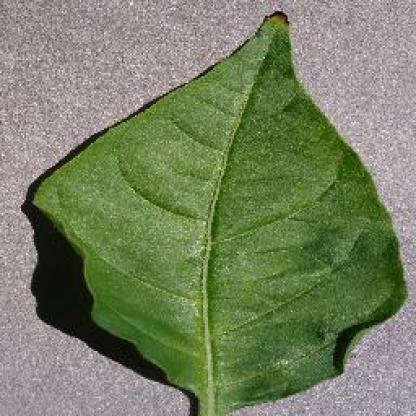good leaf: (46, 14, 406, 410)
